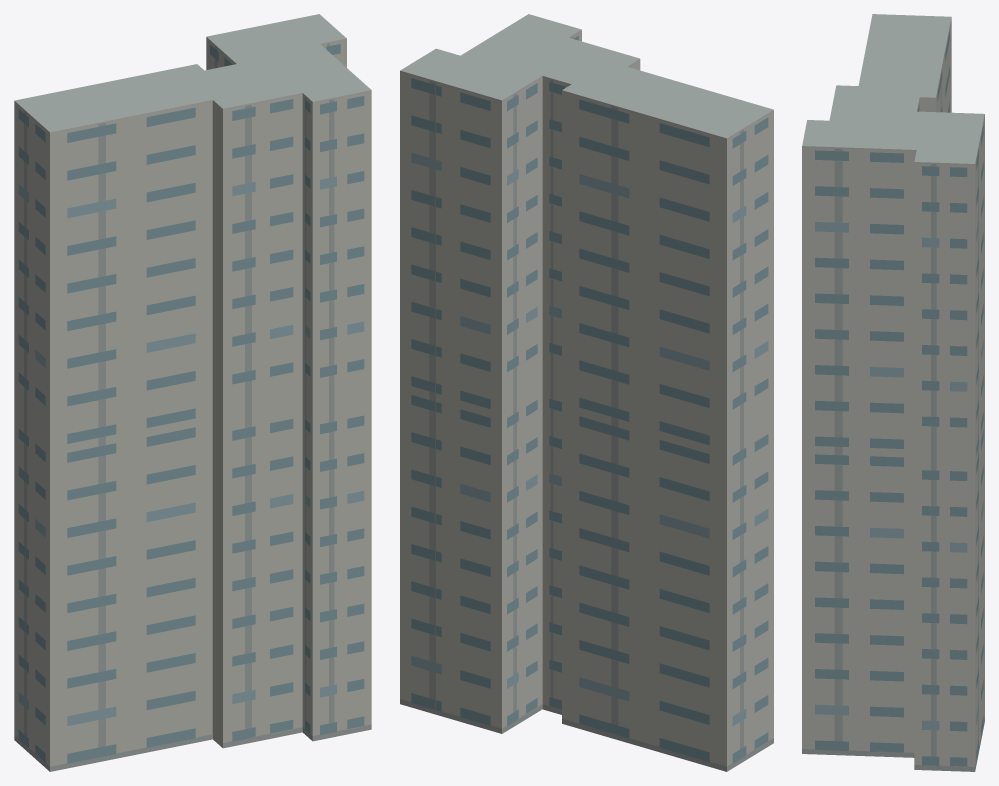
The model's file is residential-89fa51e3-924b-42f2-8cf8-626a150f4fb1.glb.
3 renders of one model, left to right at view 1: azimuth 30°, elevation 25°; view 2: azimuth 150°, elevation 25°; view 3: azimuth 270°, elevation 25°, orthographic. The views are drawn at different scales.
Parts seen in each view (by area): view 1: residential-89fa51e3-924b-42f2-8cf8-626a150f4fb1.tmp; view 2: residential-89fa51e3-924b-42f2-8cf8-626a150f4fb1.tmp; view 3: residential-89fa51e3-924b-42f2-8cf8-626a150f4fb1.tmp.
Boxes of the visible parts, box(x1,y1,x2,y2) form: residential-89fa51e3-924b-42f2-8cf8-626a150f4fb1.tmp: box(14, 14, 371, 771); residential-89fa51e3-924b-42f2-8cf8-626a150f4fb1.tmp: box(400, 14, 773, 771); residential-89fa51e3-924b-42f2-8cf8-626a150f4fb1.tmp: box(802, 14, 984, 771).
Size of the model in its own units: 52.94 by 100 by 27.25.
